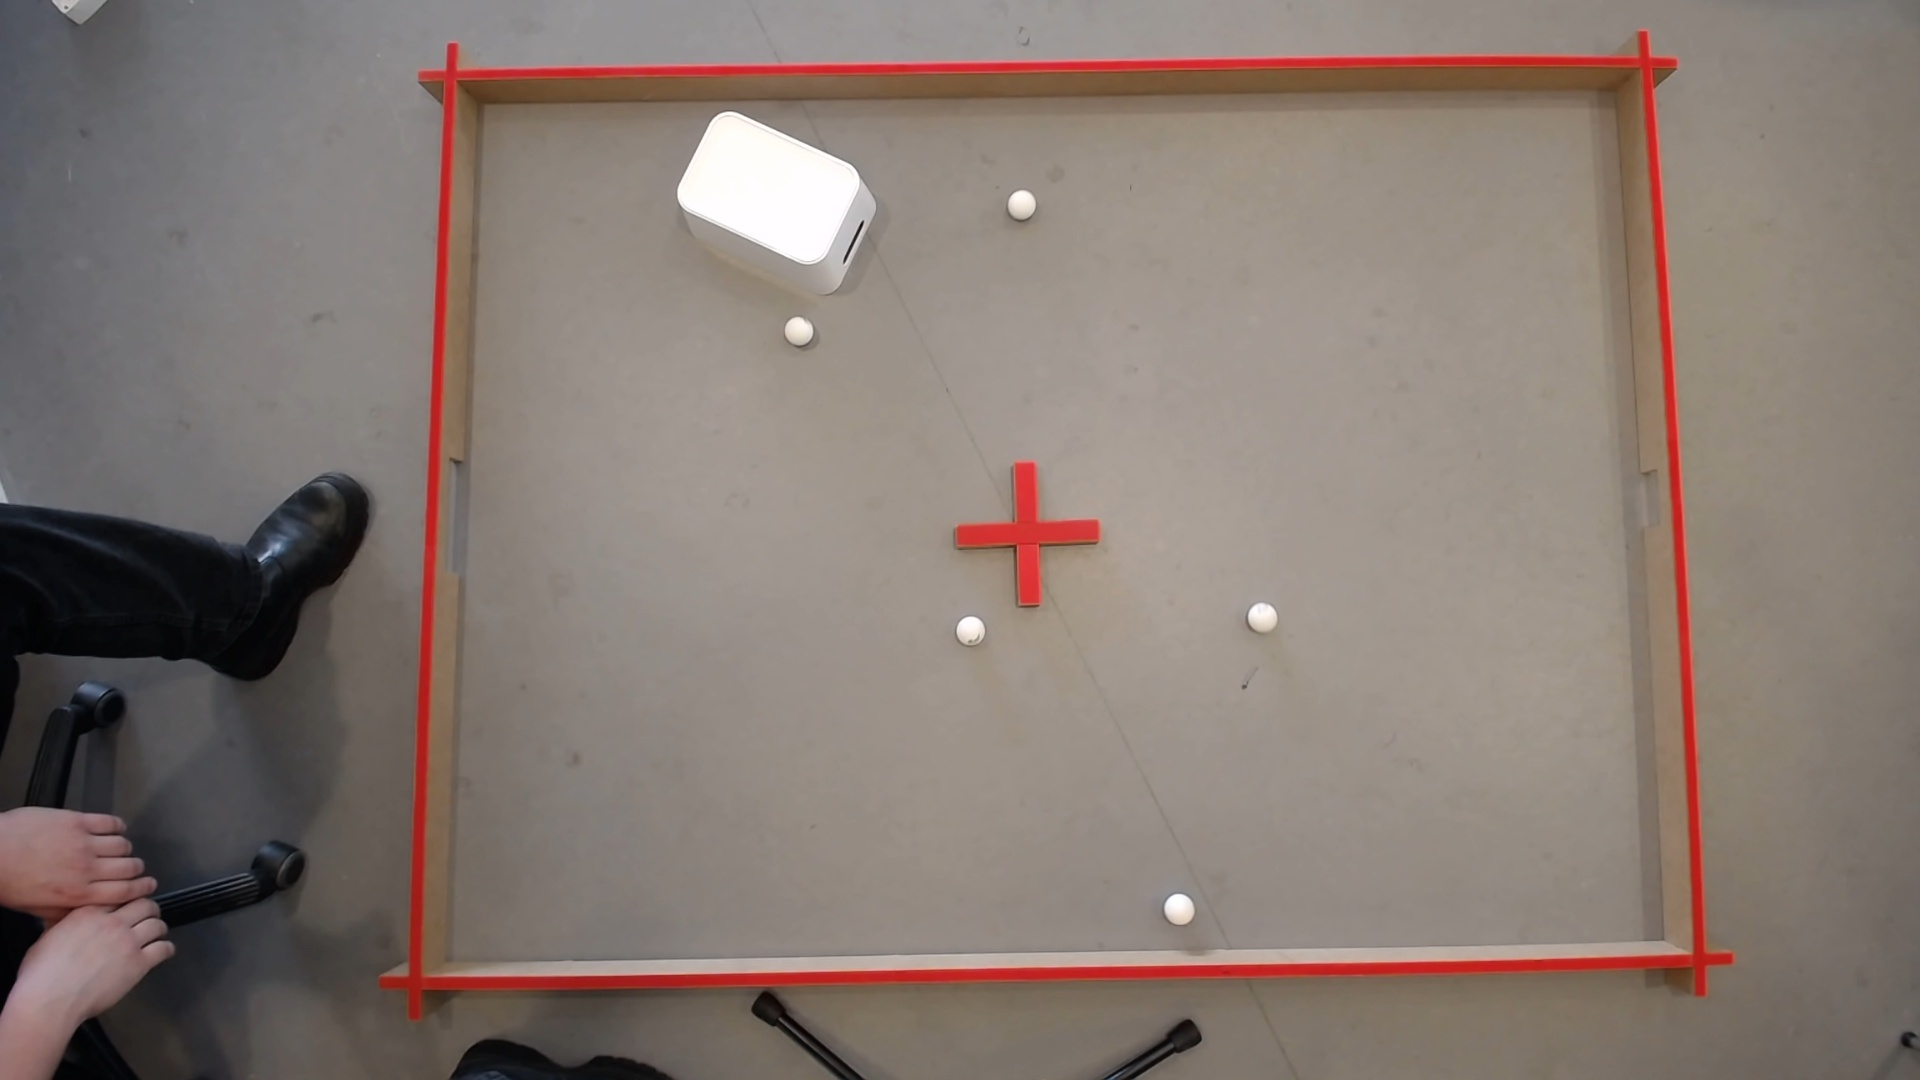balls: (669, 100, 866, 272), (951, 609, 986, 644), (1245, 597, 1279, 629), (782, 313, 815, 343), (1164, 894, 1192, 919)
car: (1005, 185, 1036, 216)
